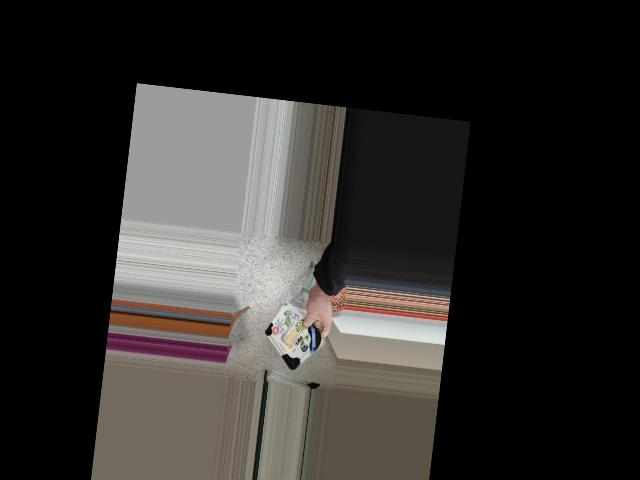cheese: (258, 309, 340, 365)
